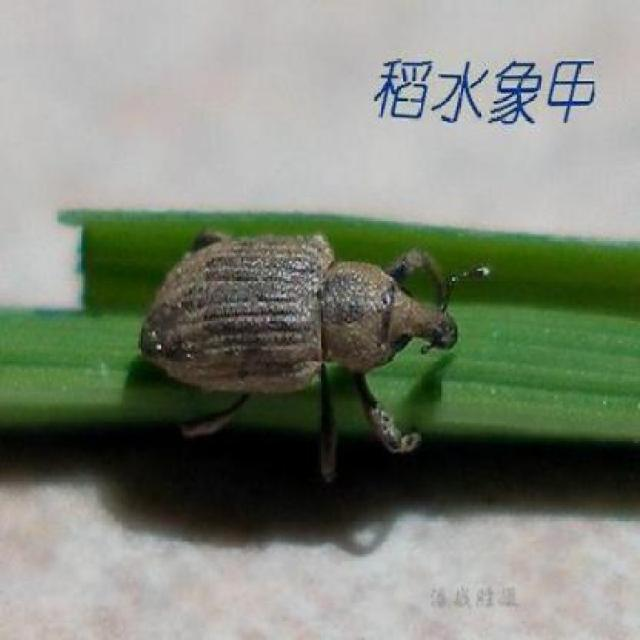rice-bug: (140, 222, 486, 449)
